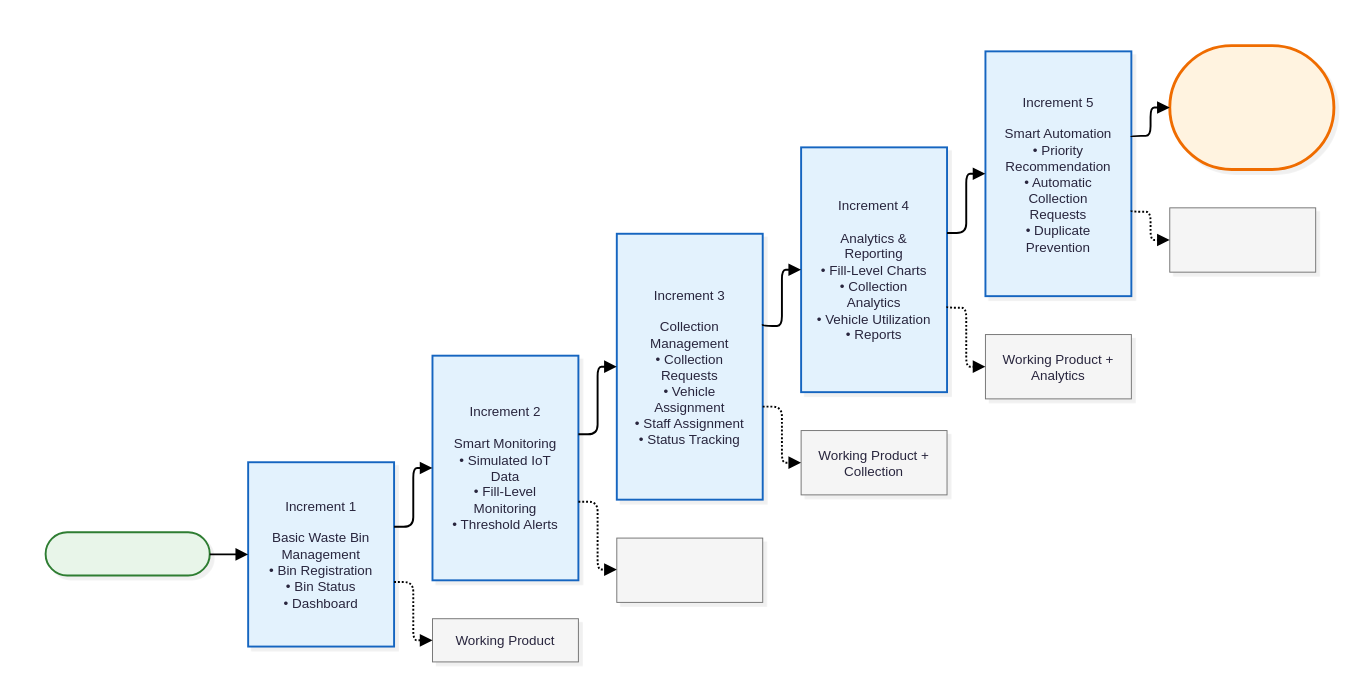
This 1356x683 diagram has some shape labels left out. Each missing label, with the centre of its shape:
Complete Smart Waste Collection Monitoring System: point (1253, 109)
Enhanced Final Product: point (1244, 241)
Project Start: point (129, 555)
Working Product + Monitoring: point (691, 571)
